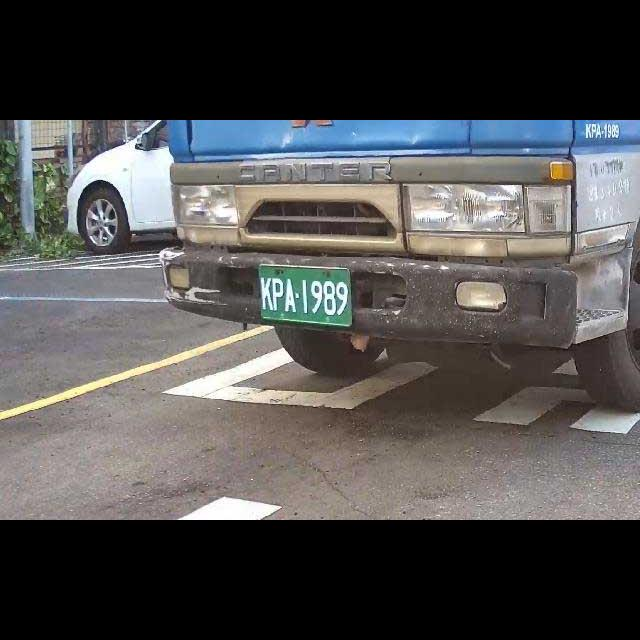plate: (259, 265, 352, 327)
